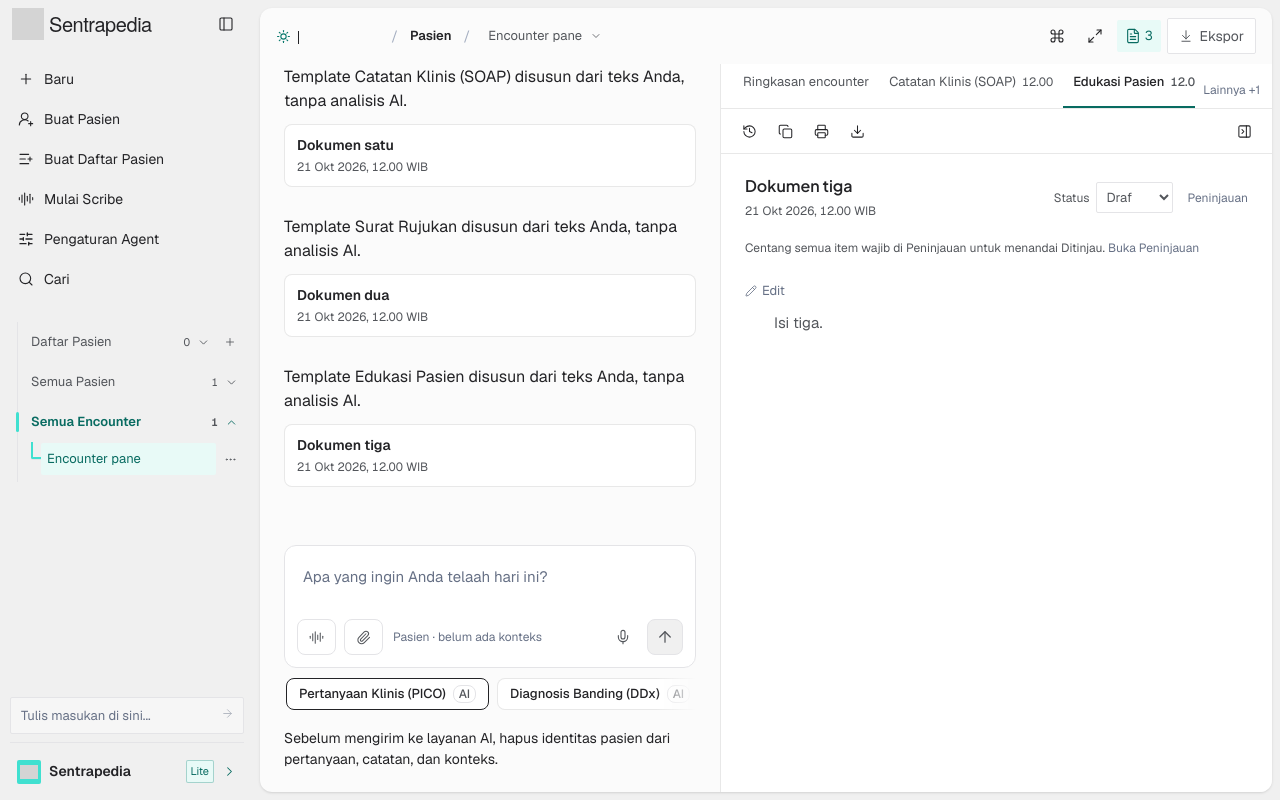
Test: the document pane › Lainnya +n appears from the third document and selects a tab
(page scrolled)
Click the button "Lainnya +1". click: [1232, 90]
box: [1203,78,1260,102]
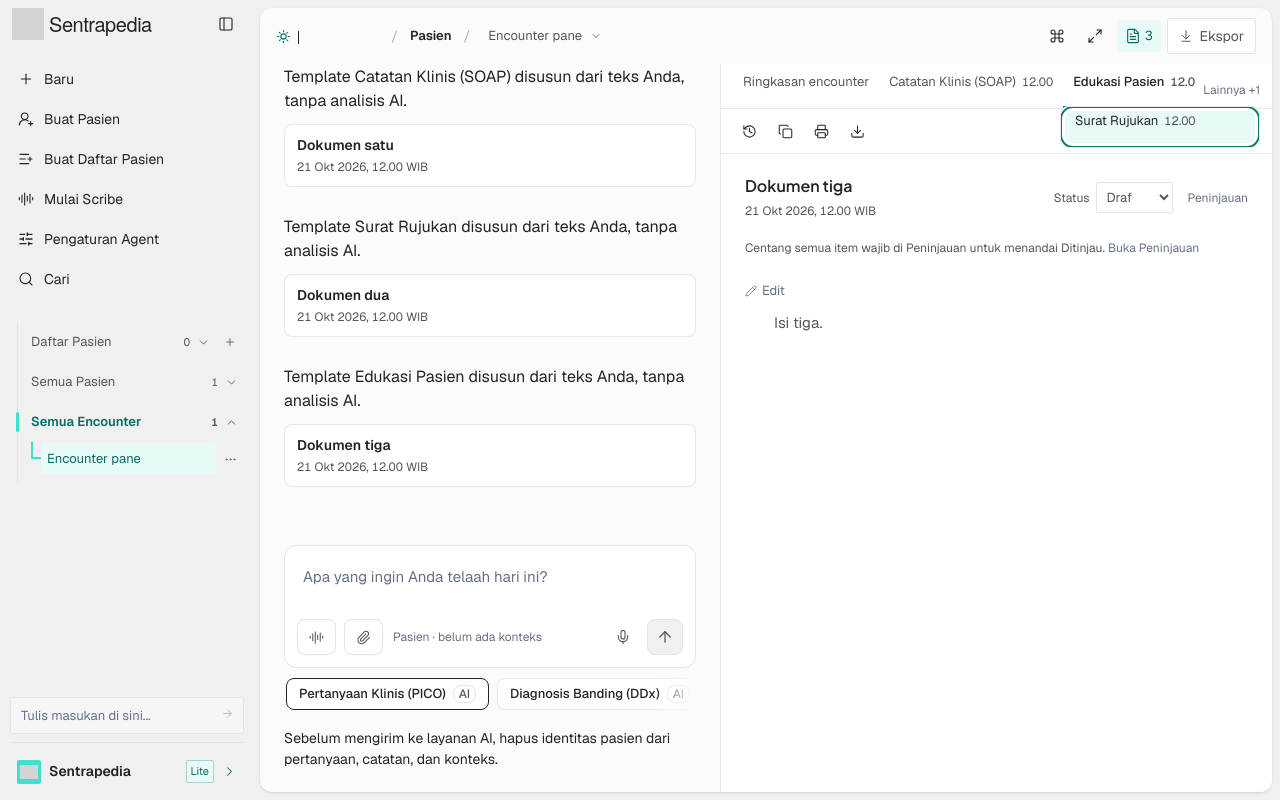
Click the menu item "Surat Rujukan 12.00". click: [1160, 127]
box: [1065,111,1255,143]
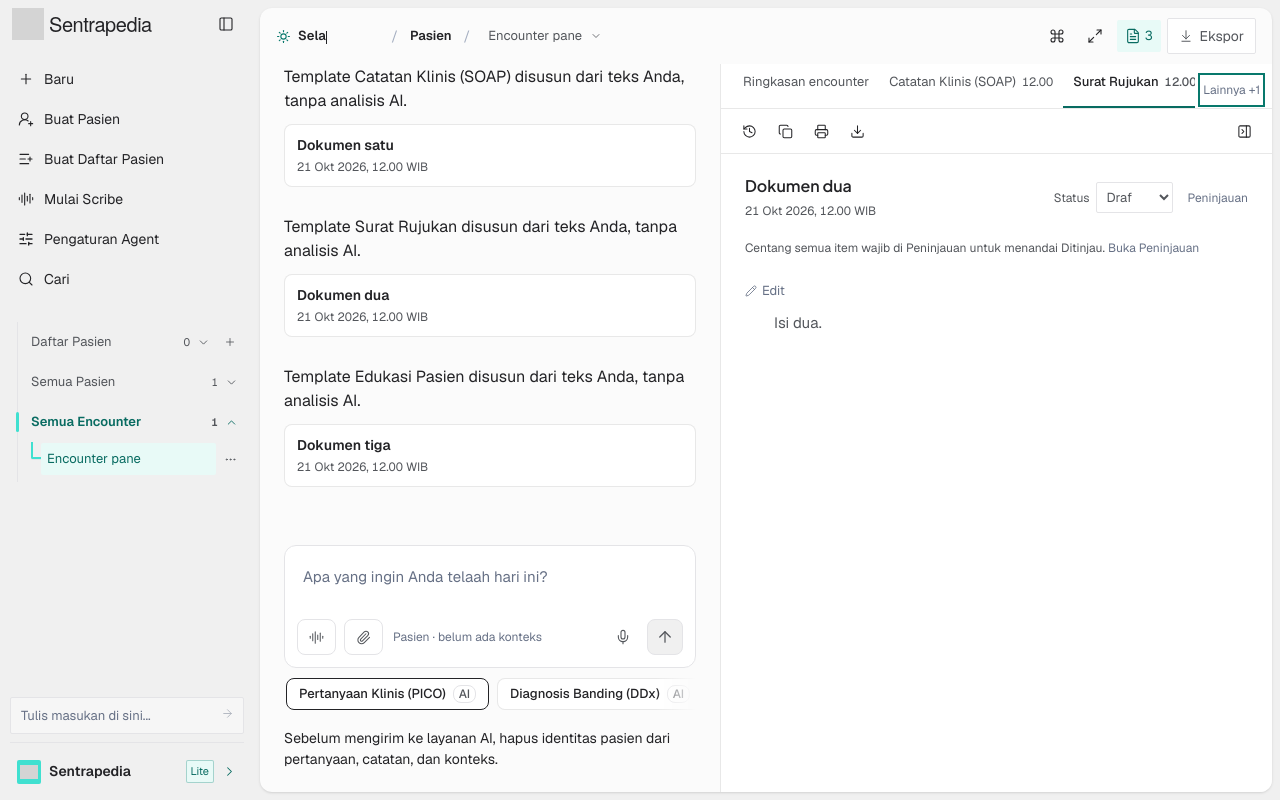
Result: the heading "Dokumen dua" is shown at [745,175,852,196]
Result: the text "Isi dua." is shown at [774,313,822,332]
